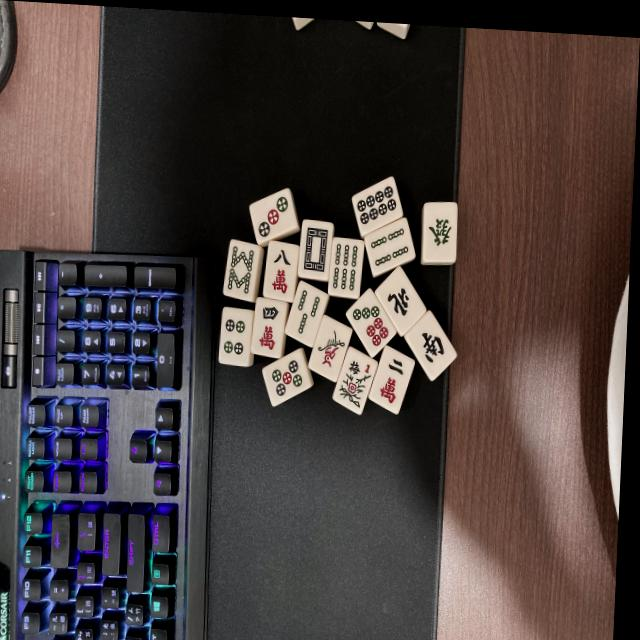bai: (299, 220, 334, 280)
f1: (332, 349, 376, 414)
fa: (422, 203, 459, 266)
m2: (370, 348, 415, 415)
m4: (251, 301, 288, 362)
m8: (263, 241, 300, 302)
north: (375, 269, 431, 338)
s1: (309, 316, 354, 382)
s3: (285, 281, 329, 347)
s4: (363, 215, 416, 277)
s6: (328, 239, 364, 299)
s8: (223, 241, 260, 302)
south: (404, 312, 461, 383)
t3: (248, 187, 299, 247)
t4: (218, 308, 253, 367)
t5: (262, 349, 313, 408)
t7: (345, 289, 399, 358)
t8: (351, 174, 406, 238)
